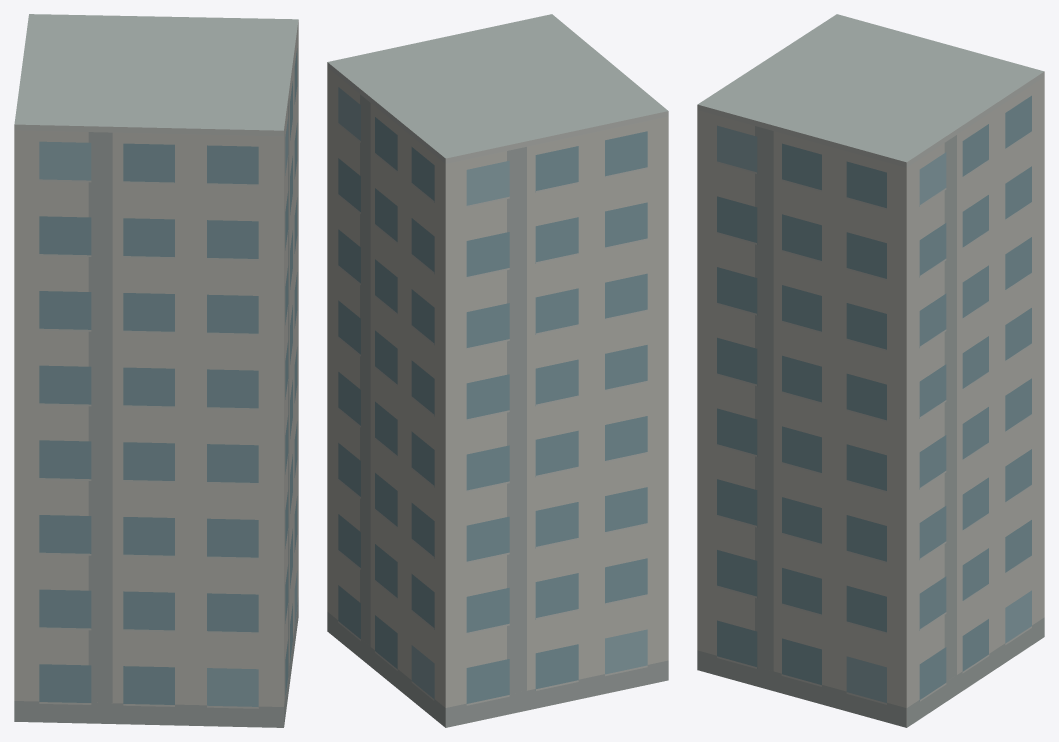
Rendered from survey-upis-32961147.glb.
3 renders of one model, left to right at view 1: azimuth 30°, elevation 25°; view 2: azimuth 150°, elevation 25°; view 3: azimuth 270°, elevation 25°, orthographic. The views are drawn at different scales.
Visible parts, largest first — view 1: survey-upis-32961147.tmp; view 2: survey-upis-32961147.tmp; view 3: survey-upis-32961147.tmp.
Boxes of the visible parts, x1,y1,x2,y2 form: survey-upis-32961147.tmp: (14,14,298,727); survey-upis-32961147.tmp: (327,14,668,727); survey-upis-32961147.tmp: (697,14,1044,727).
Size of the model in its own units: 14.13 by 25.1 by 13.97.
